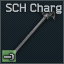MPX Geissele SCH charging handle: (0, 0, 64, 64)
